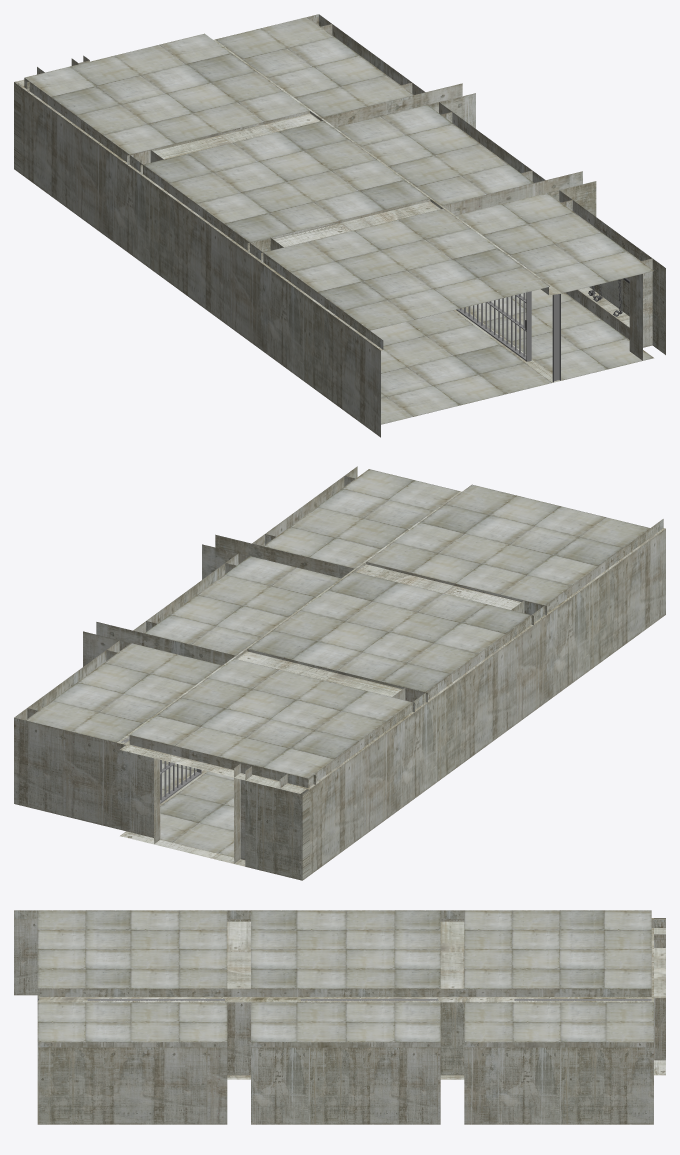
File: Jails_Parts_Set_El.fbx
3 views of the same model, one above another, from view 1: azimuth 30°, elevation 25°; view 2: azimuth 150°, elevation 25°; view 3: azimuth 270°, elevation 25° (orthographic). The views are drawn at different scales.
Visible parts, largest first — view 1: floor01, wall01, fence03; view 2: floor01, wall01, fence01; view 3: floor01, wall01.
Part boxes in pixels (bbox=[...]): floor01: bbox=[25, 17, 653, 424]; wall01: bbox=[14, 14, 665, 437]; fence03: bbox=[456, 291, 560, 382]; floor01: bbox=[26, 469, 649, 857]; wall01: bbox=[14, 466, 665, 880]; fence01: bbox=[121, 736, 201, 803]; floor01: bbox=[37, 910, 653, 1042]; wall01: bbox=[14, 910, 665, 1124].
Bounding box in the file's own units: 1450 × 400 × 2750.
